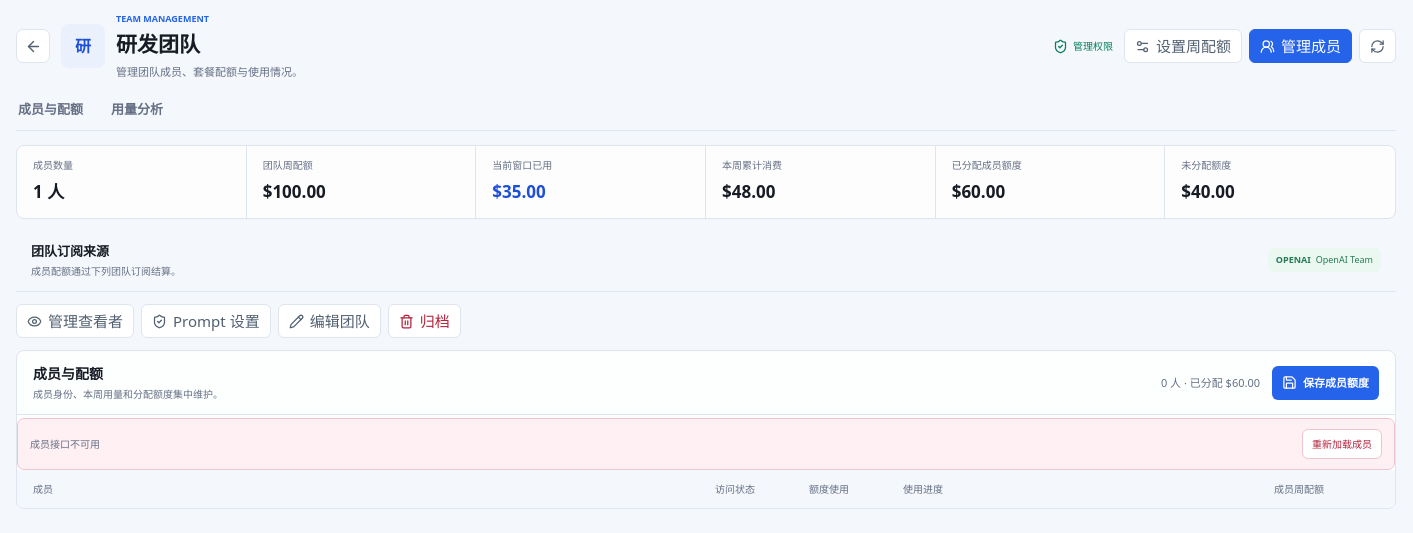
UserGroupMembersView › keeps quota data visible when members fail and retries only the member dataset
This screenshot has width=1413, height=533.
Expected: the element with test id "team-quota-summary" shows "$100.00", x1=263 y1=180 x2=326 y2=203
Expected: the message with test id "team-members-error" shows "成员接口不可用", x1=30 y1=437 x2=100 y2=451
What coordinates should you click on to do the following:
click the button with test id "retry-team-members"
I would click on:
 (1342, 444)
Its box is x1=1302 y1=429 x2=1382 y2=459.
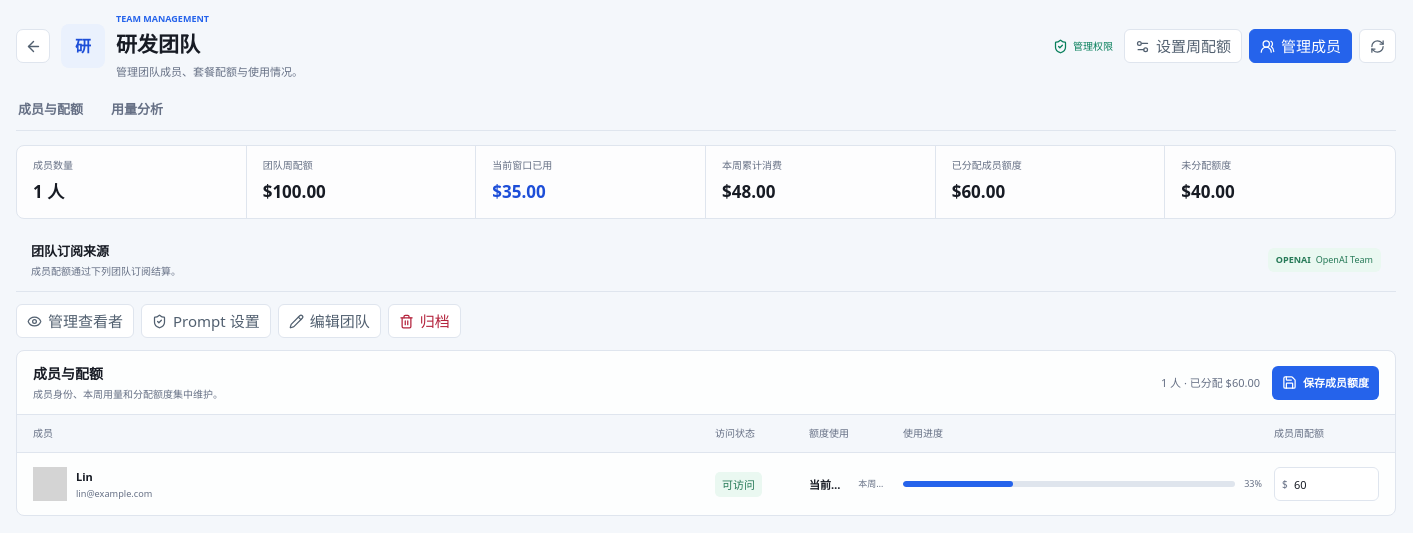
Expected: the element with test id "team-member-row-7" shows "Lin", x1=76 y1=469 x2=93 y2=484
